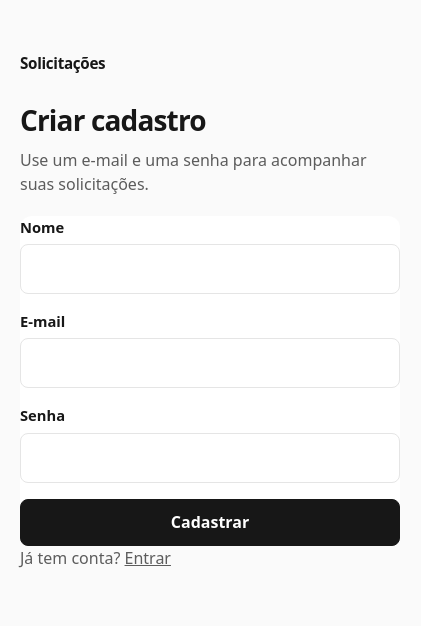
Scenario: login e cadastro › mostra o erro de e-mail duplicado no cadastro
The width and height of the screenshot is (421, 626).
Check: the heading "Criar cadastro" is shown, box [20,101,206,139]
In the field labelled "Nome": (210, 269) [20,244,400,294], type "Pessoa de Teste"
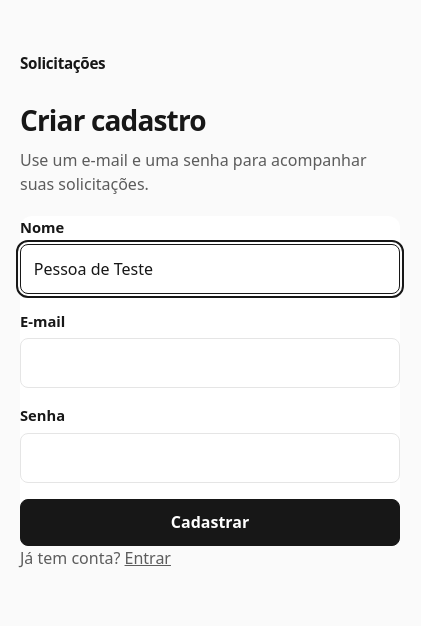
In the field labelled "E-mail": (210, 363) [20,338,400,388], type "etapa5.ui@example.com"
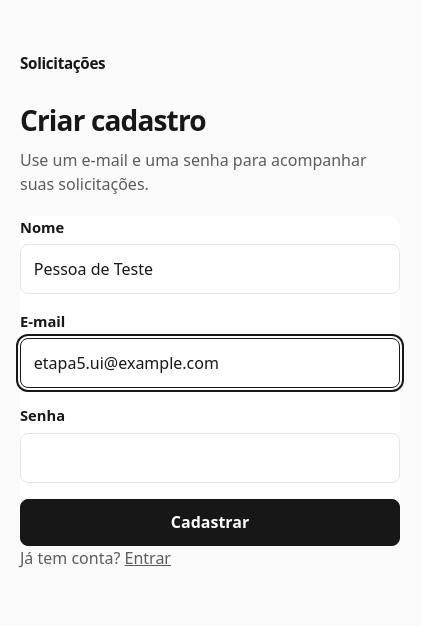
In the password field labelled "Senha": (210, 458) [20,433,400,483], type "Teste1234"
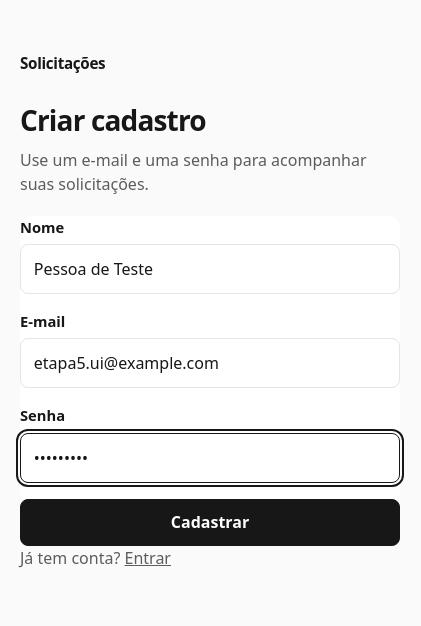
Click the button "Cadastrar": (210, 522) [20,499,400,546]
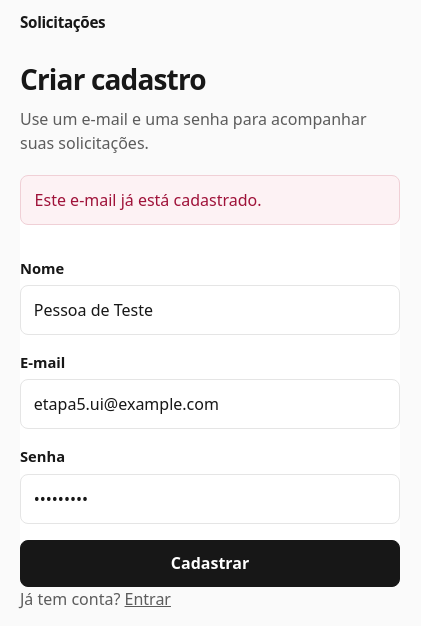
Check: the message reads "Este e-mail já está cadastrado.", box [35,188,262,210]
